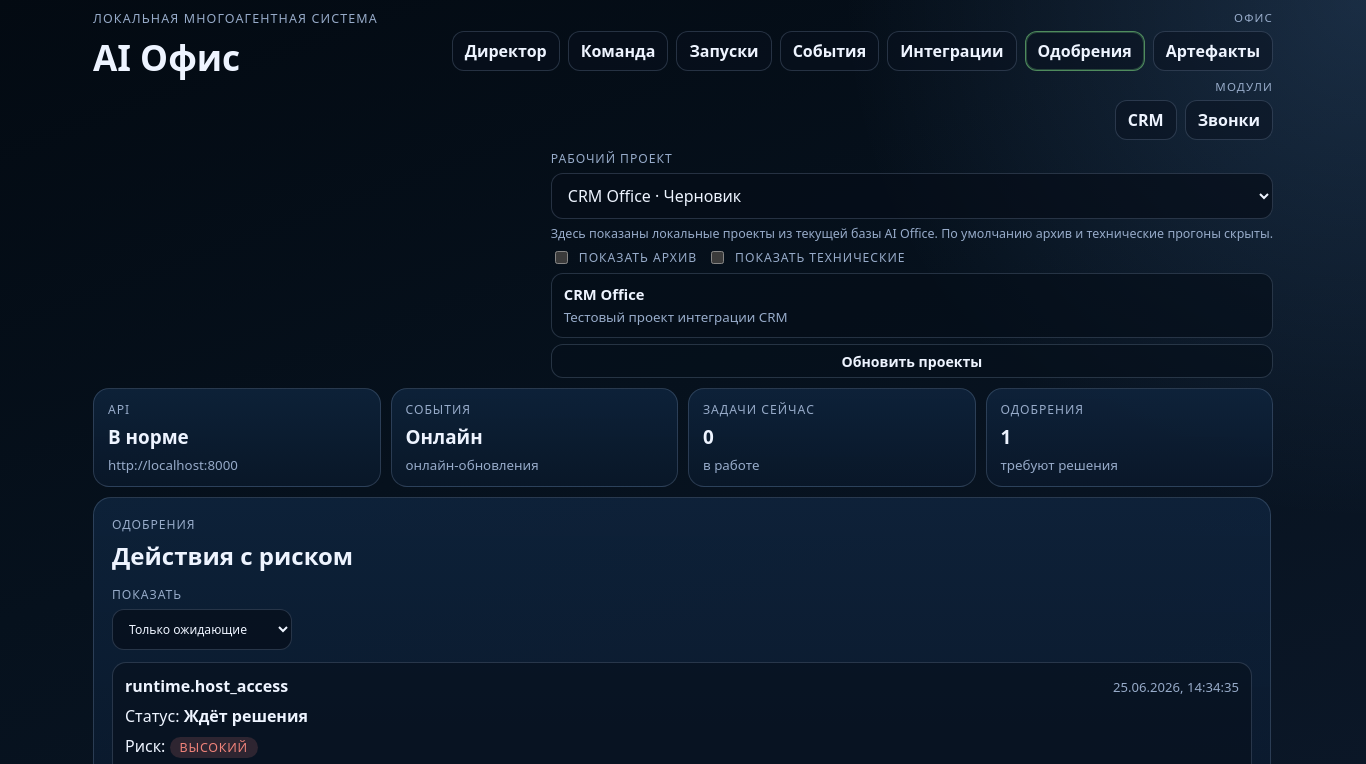
App integration › rejects an approval and allows filtering history
expect the heading "Действия с риском" is shown: met, box [112, 539, 353, 572]
Select "Все" in the dropdown labelled "Показать" at x=202, y=630, box [112, 609, 292, 650]
(page scrolled)
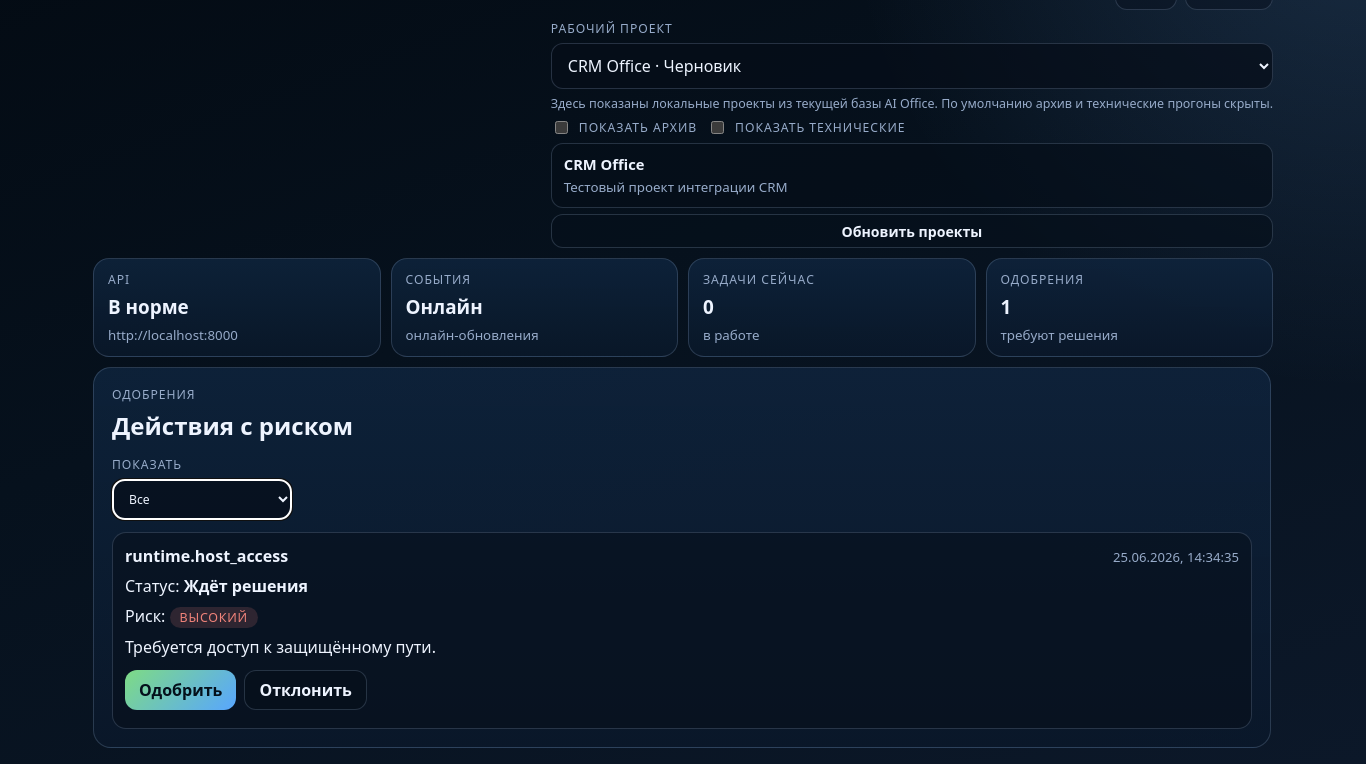
Click the button "Отклонить" at x=306, y=690, box [244, 670, 367, 710]
(page scrolled)
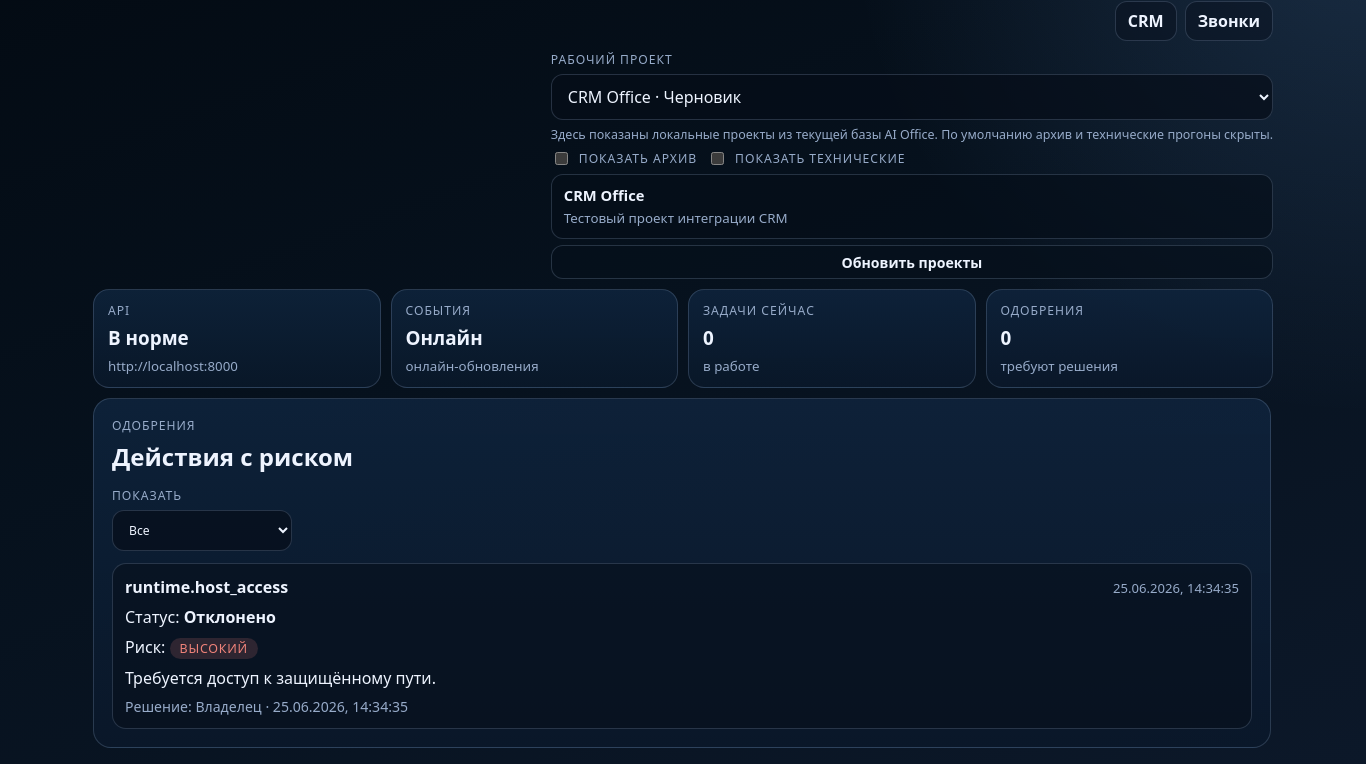
expect the text "Решение: Владелец · 25.06.2026, 14:34:35" is shown: met, box [125, 697, 408, 716]
